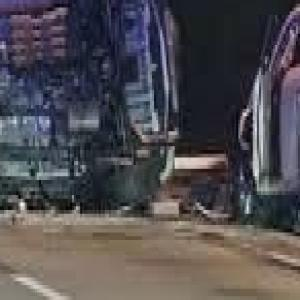severe: (0, 0, 183, 210)
